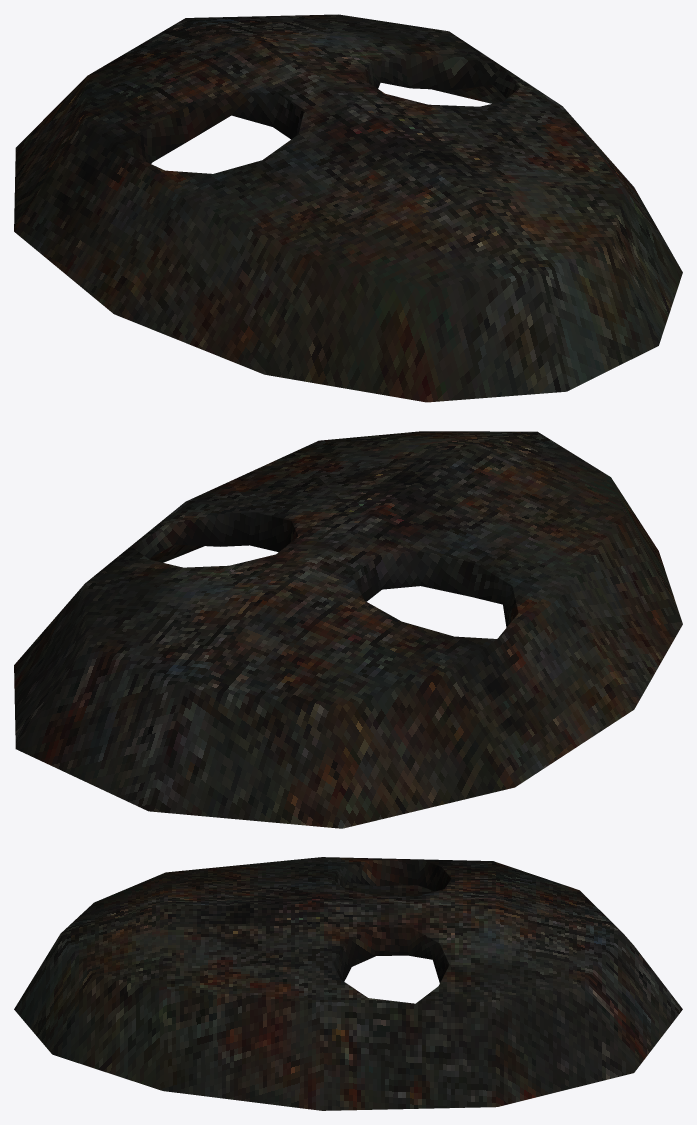
Rendered from mask_mx_4.glb.
3 views of the same model, one above another, from view 1: azimuth 30°, elevation 25°; view 2: azimuth 150°, elevation 25°; view 3: azimuth 270°, elevation 25° (orthographic). The views are drawn at different scales.
Visible parts, largest first — view 1: mask_mx_4; view 2: mask_mx_4; view 3: mask_mx_4.
Part boxes in pixels (x1=…): mask_mx_4: x1=14, y1=14, x2=682, y2=402; mask_mx_4: x1=14, y1=431, x2=682, y2=828; mask_mx_4: x1=14, y1=857, x2=682, y2=1110.
Size of the model in its own units: 0.2297 by 0.0554 by 0.3198.
1 material, 1 textured.
